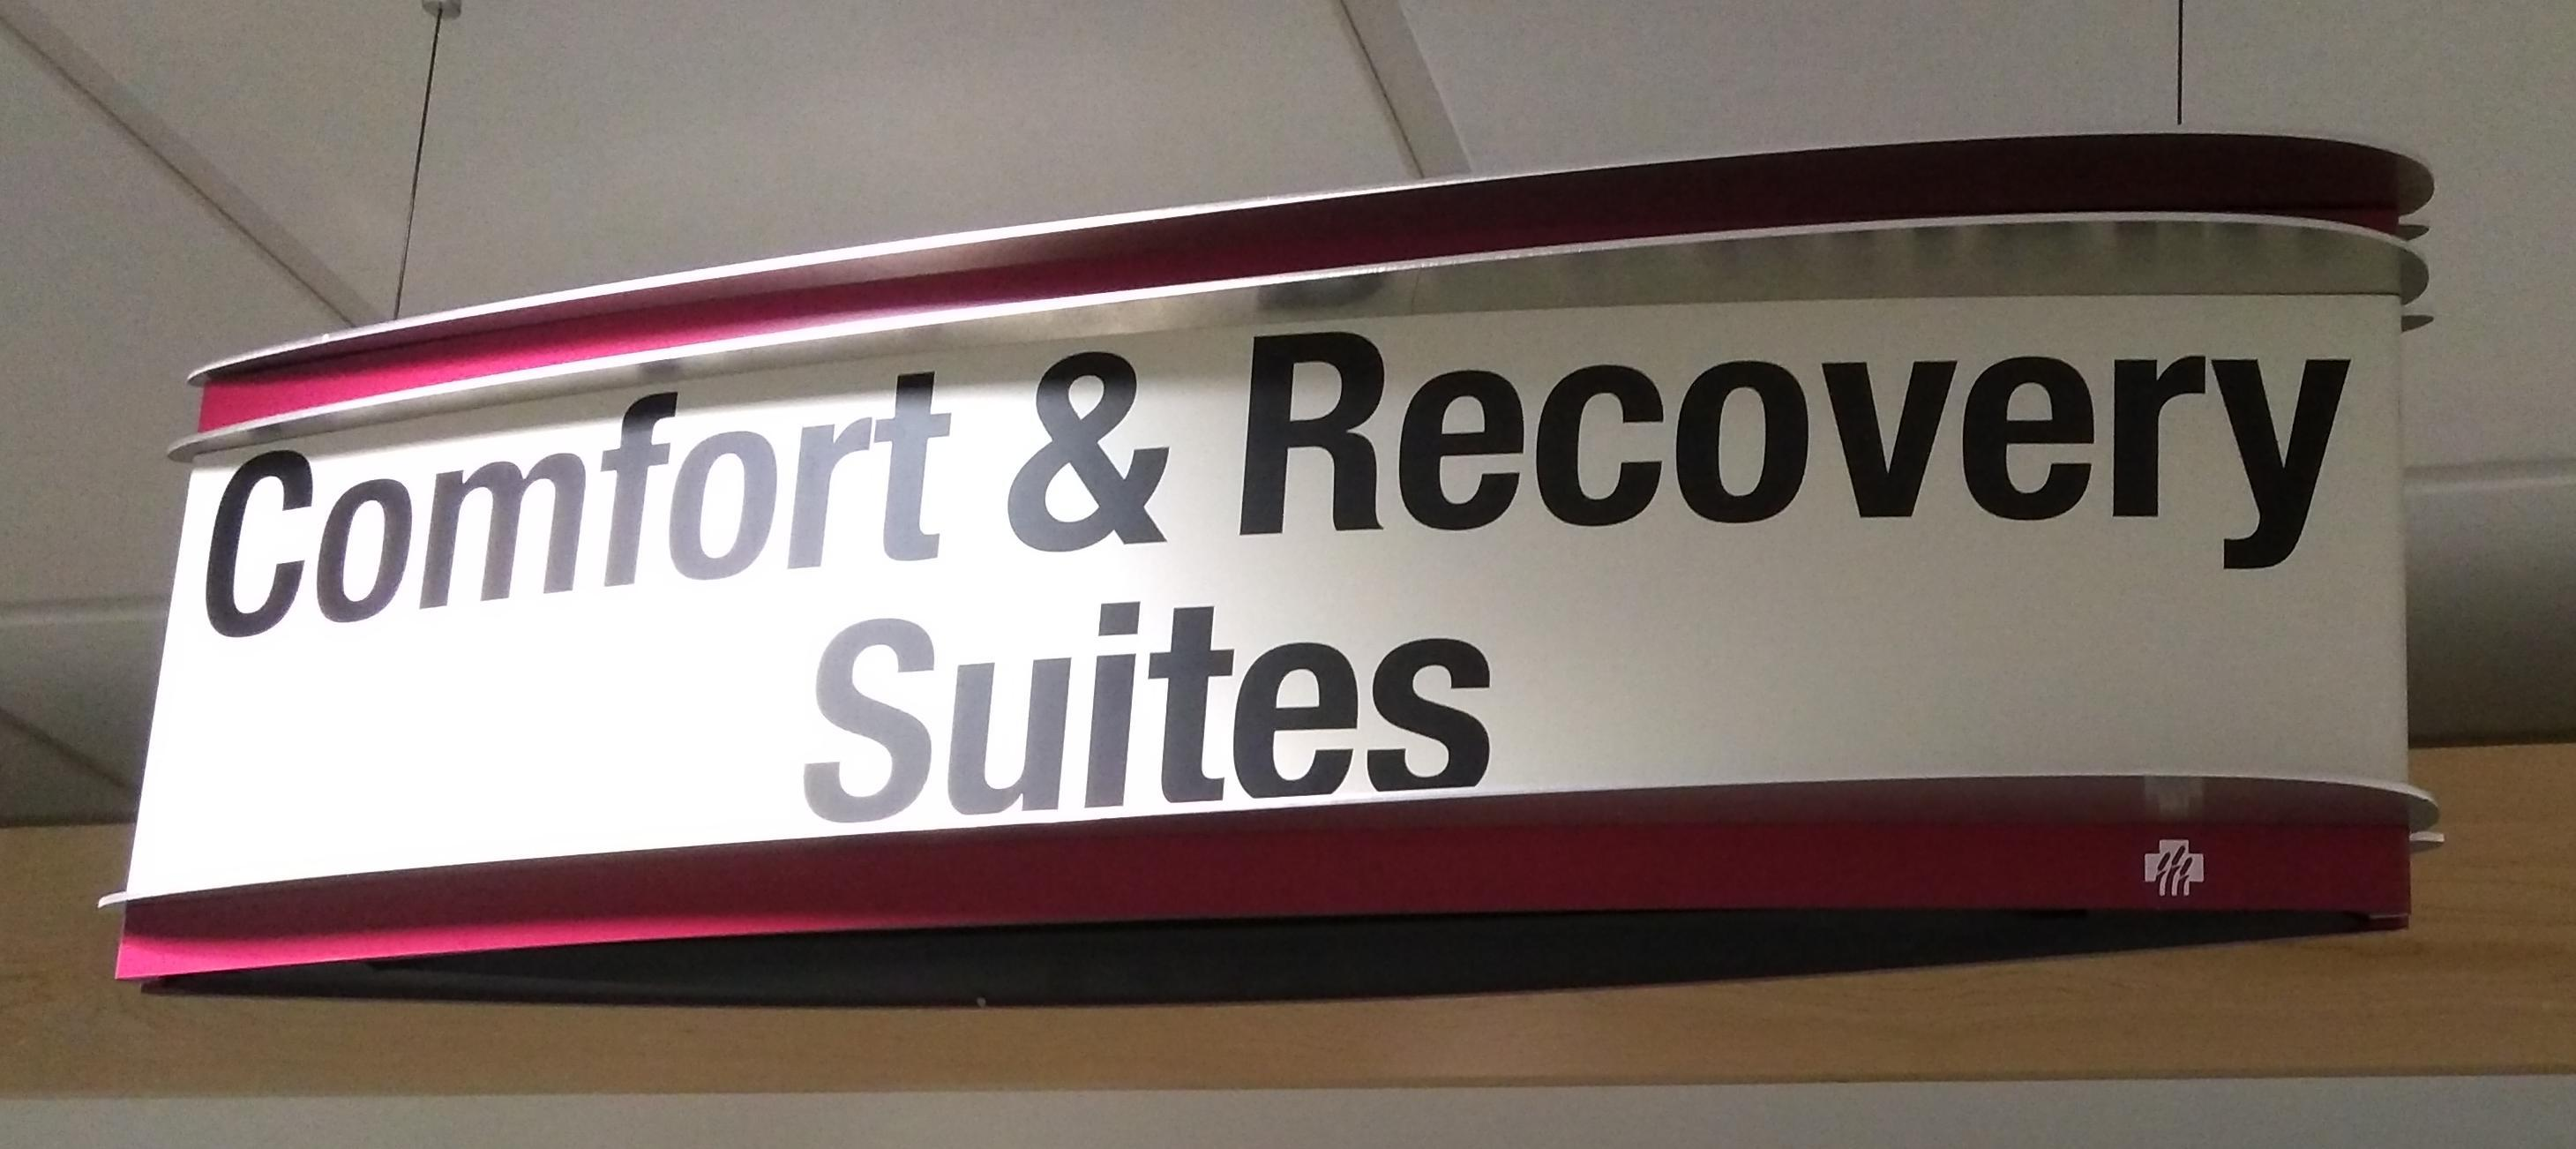sign: (89, 133, 2446, 1008)
